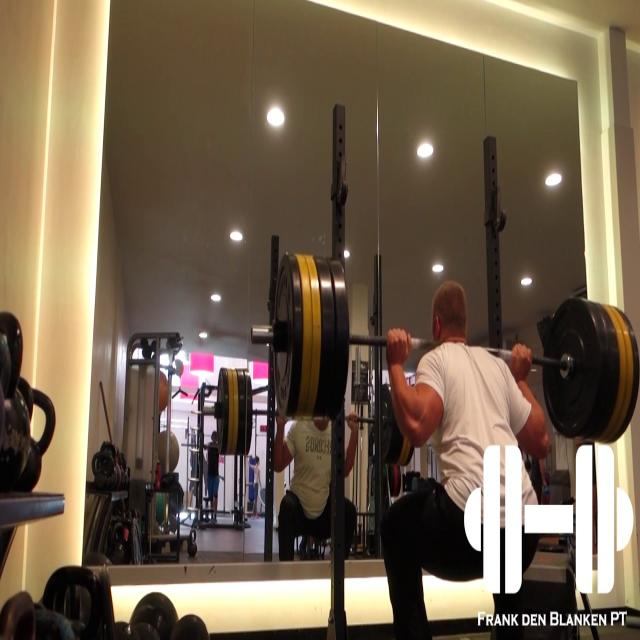squat: (188, 208, 260, 391), (233, 146, 277, 202)
